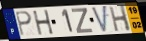1: (61, 9, 75, 34)
H: (108, 4, 132, 33), (32, 9, 55, 37)
P: (15, 11, 34, 37)
V: (91, 5, 108, 34)
Z: (70, 7, 94, 34)
